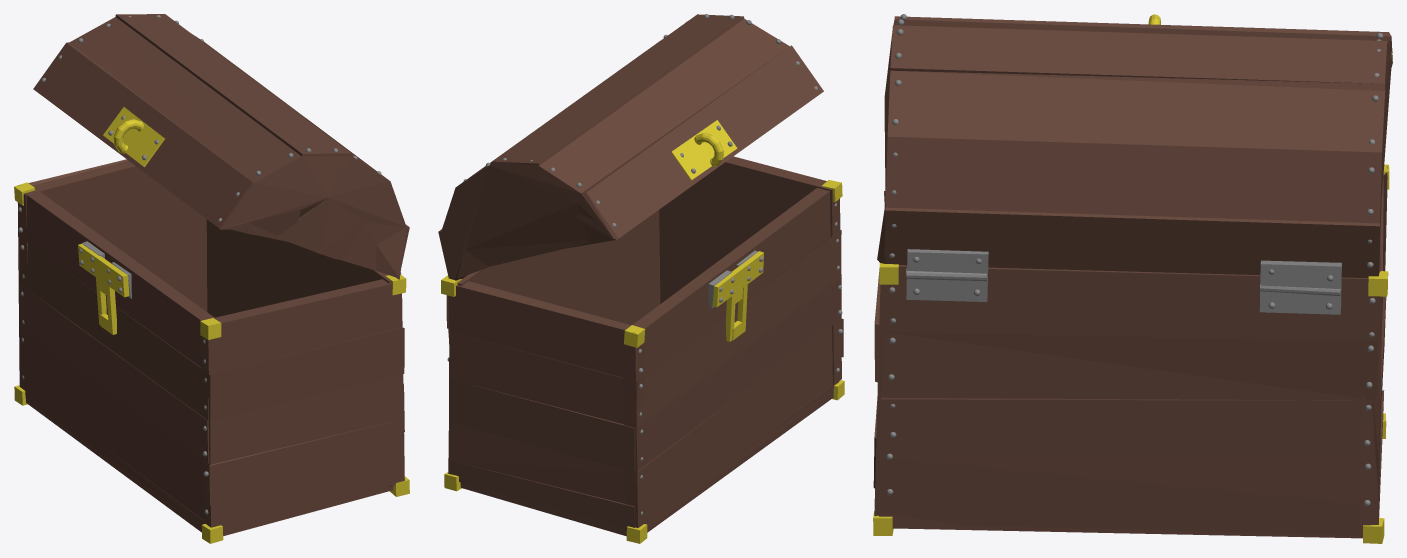
3 renders of one model, left to right at view 1: azimuth 30°, elevation 25°; view 2: azimuth 150°, elevation 25°; view 3: azimuth 270°, elevation 25°, orthographic. The views are drawn at different scales.
Parts seen in each view (by area): view 1: node_MeshObject-1571205120-PolyPaper12; view 2: node_MeshObject-1571205120-PolyPaper12; view 3: node_MeshObject-1571205120-PolyPaper12, node_MeshObject-999126016-PolyPaper22.
Part boxes in pixels (box(x1,y1,x2,y2)): node_MeshObject-1571205120-PolyPaper12: box(14, 14, 409, 543); node_MeshObject-1571205120-PolyPaper12: box(438, 14, 844, 543); node_MeshObject-1571205120-PolyPaper12: box(873, 14, 1392, 543); node_MeshObject-999126016-PolyPaper22: box(886, 287, 1375, 506).
Bounding box in the file's own units: 0.926 × 1.5 × 1.52.
